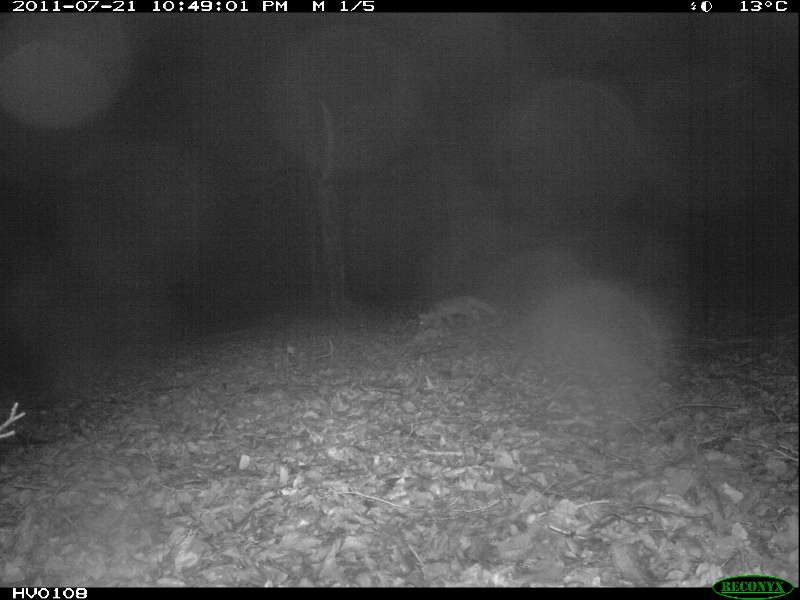fox: (419, 288, 497, 335)
